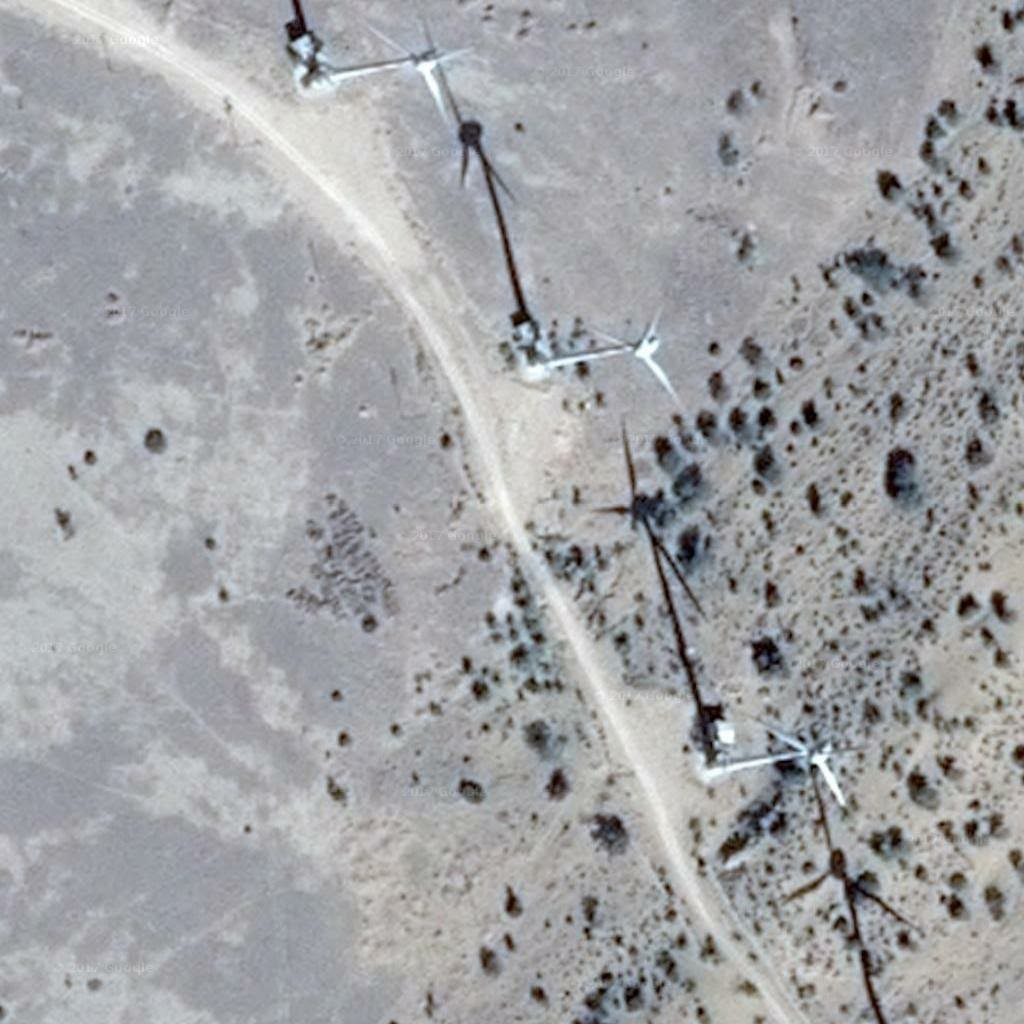Windmill: (415, 19, 565, 365)
